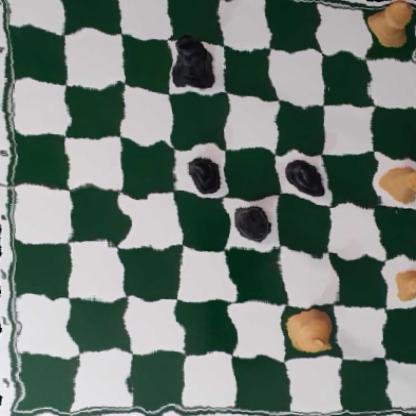black-king: (165, 35, 219, 94)
black-pawn: (282, 156, 327, 203), (183, 156, 224, 196)
black-rook: (232, 197, 272, 241)
white-bishop: (365, 0, 416, 50)
white-king: (284, 301, 335, 355)
white-pawn: (390, 262, 416, 306)
white-rook: (382, 158, 416, 202)
